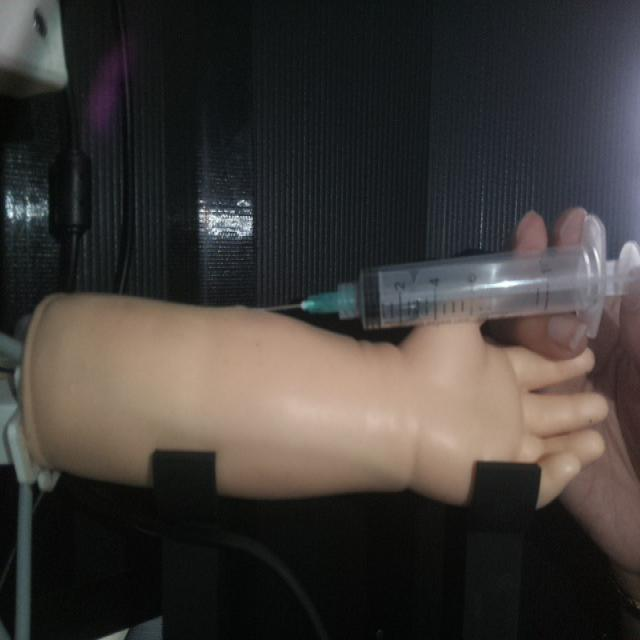Below 15 degrees: (261, 216, 638, 337)
